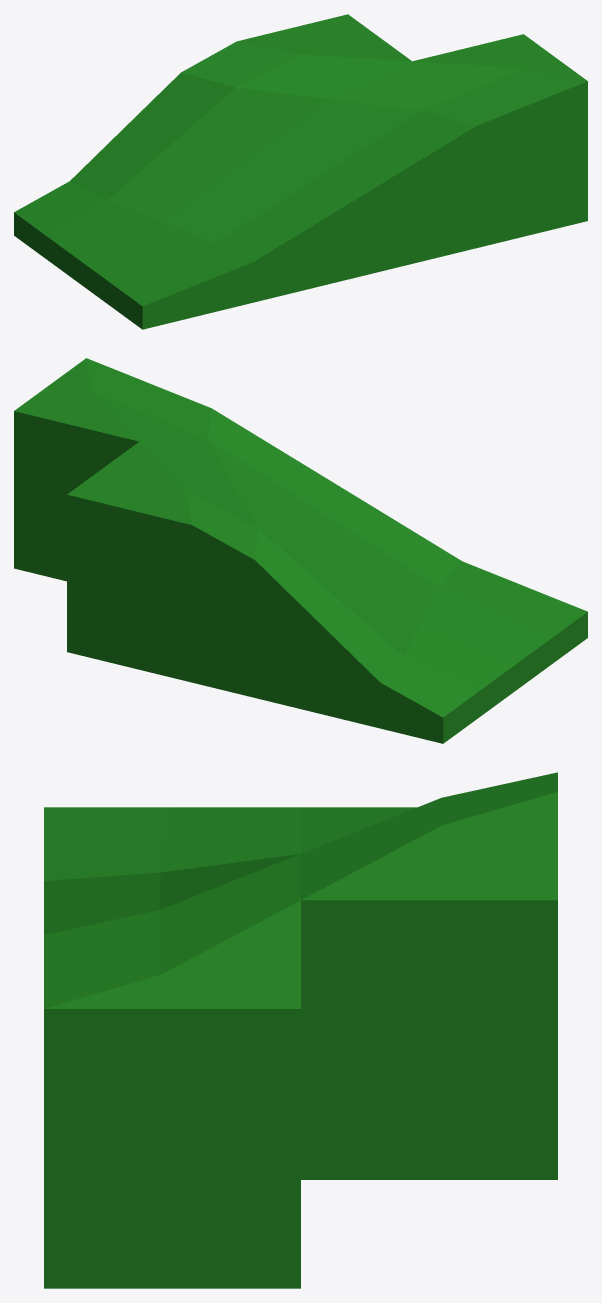
Rendered from grass_hill_2_to_1.obj.
3 views of the same model, one above another, from view 1: azimuth 30°, elevation 25°; view 2: azimuth 150°, elevation 25°; view 3: azimuth 270°, elevation 25° (orthographic). The views are drawn at different scales.
Parts seen in each view (by area): view 1: grass_hill_2_to_1_CU4; view 2: grass_hill_2_to_1_CU4; view 3: grass_hill_2_to_1_CU4.
Boxes of the visible parts, <box> form: grass_hill_2_to_1_CU4: <box>14,14,587,329</box>; grass_hill_2_to_1_CU4: <box>14,358,587,743</box>; grass_hill_2_to_1_CU4: <box>44,772,557,1288</box>.
Bounding box in the file's own units: 4 × 1.2 × 2.
